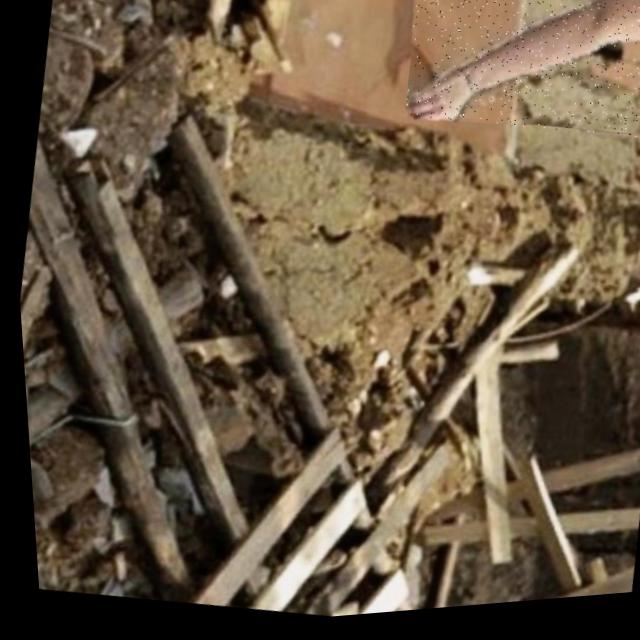Person in Rubble: (393, 0, 640, 170)
